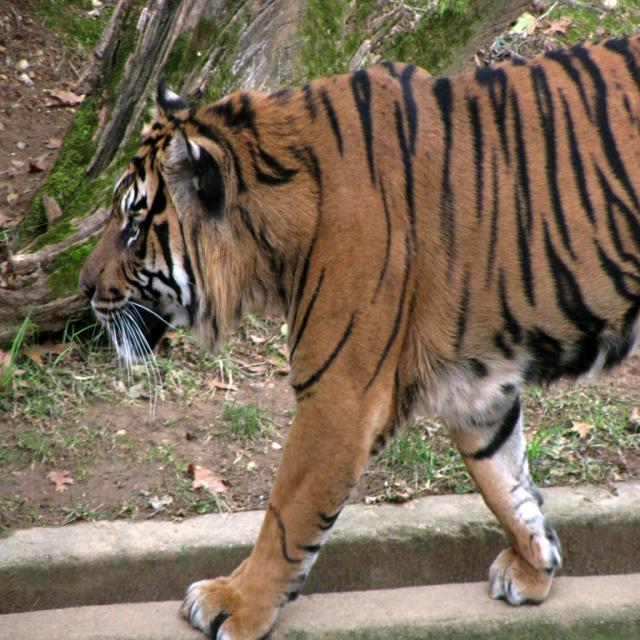Tiger: (77, 37, 640, 639)
